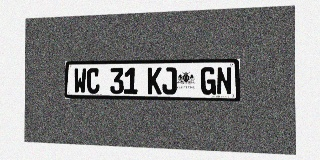1: (124, 68, 138, 94)
3: (110, 68, 123, 94)
C: (87, 68, 100, 94)
G: (201, 67, 216, 95)
J: (162, 67, 176, 94)
K: (148, 67, 162, 94)
N: (216, 67, 232, 95)
W: (74, 68, 86, 94)
